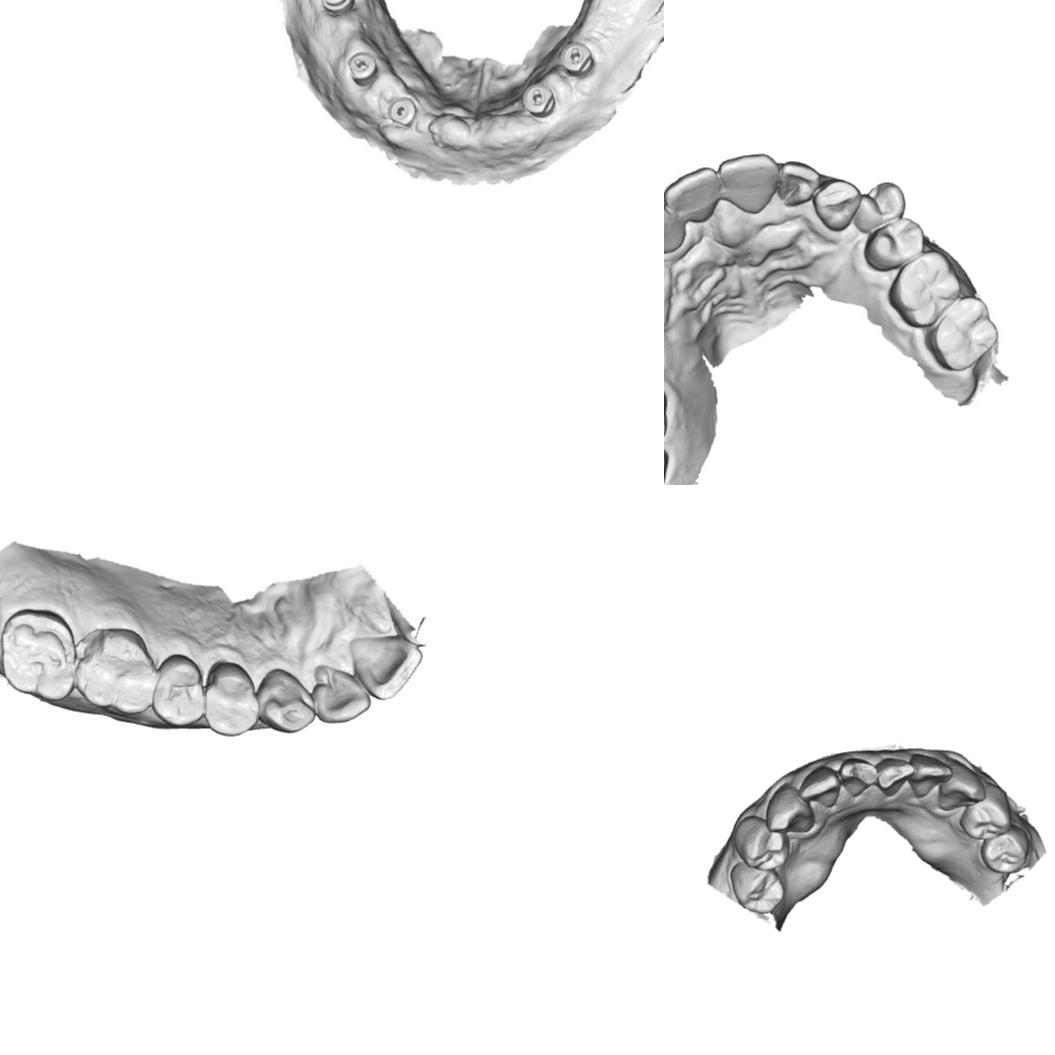canine: (256, 666, 317, 734), (936, 756, 988, 812), (812, 176, 863, 232), (764, 781, 816, 835)
implant: (386, 94, 420, 132)
implant_minus: (558, 39, 596, 79), (520, 82, 558, 120), (346, 48, 382, 87), (318, 0, 356, 18)
incisor: (348, 634, 426, 701), (716, 153, 779, 215), (311, 661, 372, 725), (664, 165, 720, 224), (776, 159, 821, 208), (796, 764, 842, 810), (908, 752, 952, 800), (836, 755, 880, 799), (874, 755, 916, 798), (664, 200, 686, 255)
molar: (74, 627, 158, 716), (0, 606, 77, 703), (886, 248, 963, 328), (924, 294, 1000, 372)
premolar: (203, 660, 259, 738), (151, 651, 205, 730), (731, 813, 792, 873), (862, 216, 925, 273), (957, 782, 1015, 842), (728, 860, 786, 915), (852, 179, 907, 234), (978, 823, 1032, 876)
